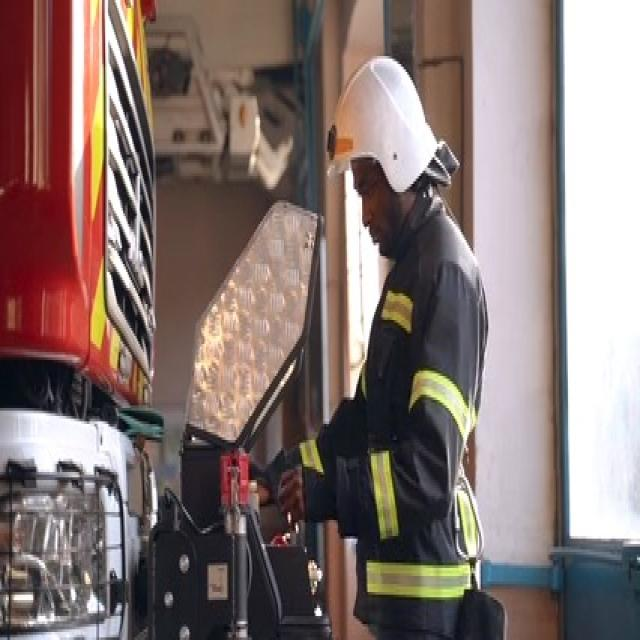Helmet_Wearer: (313, 46, 450, 250)
Jacket_Wearer: (315, 216, 483, 640)
Person: (298, 64, 487, 628)
